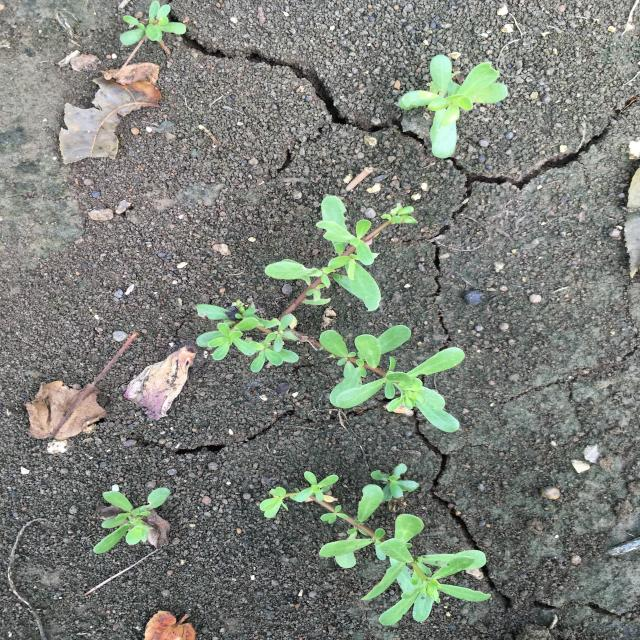Purslane: (197, 196, 466, 433), (259, 471, 492, 626), (398, 54, 508, 159), (93, 488, 171, 554), (120, 0, 186, 54), (371, 463, 420, 501)
